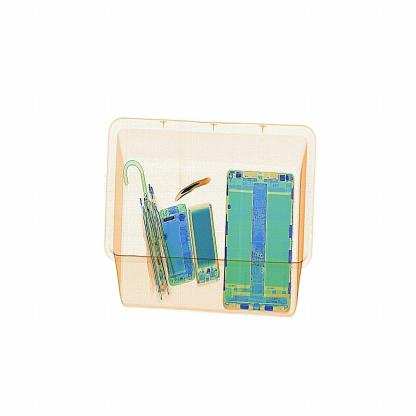wrench: (167, 170, 216, 206)
